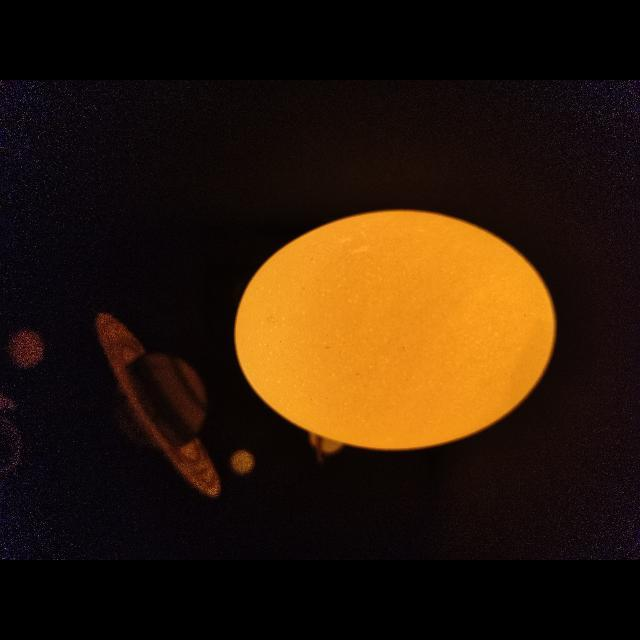AA - Premium: (235, 210, 556, 450)
